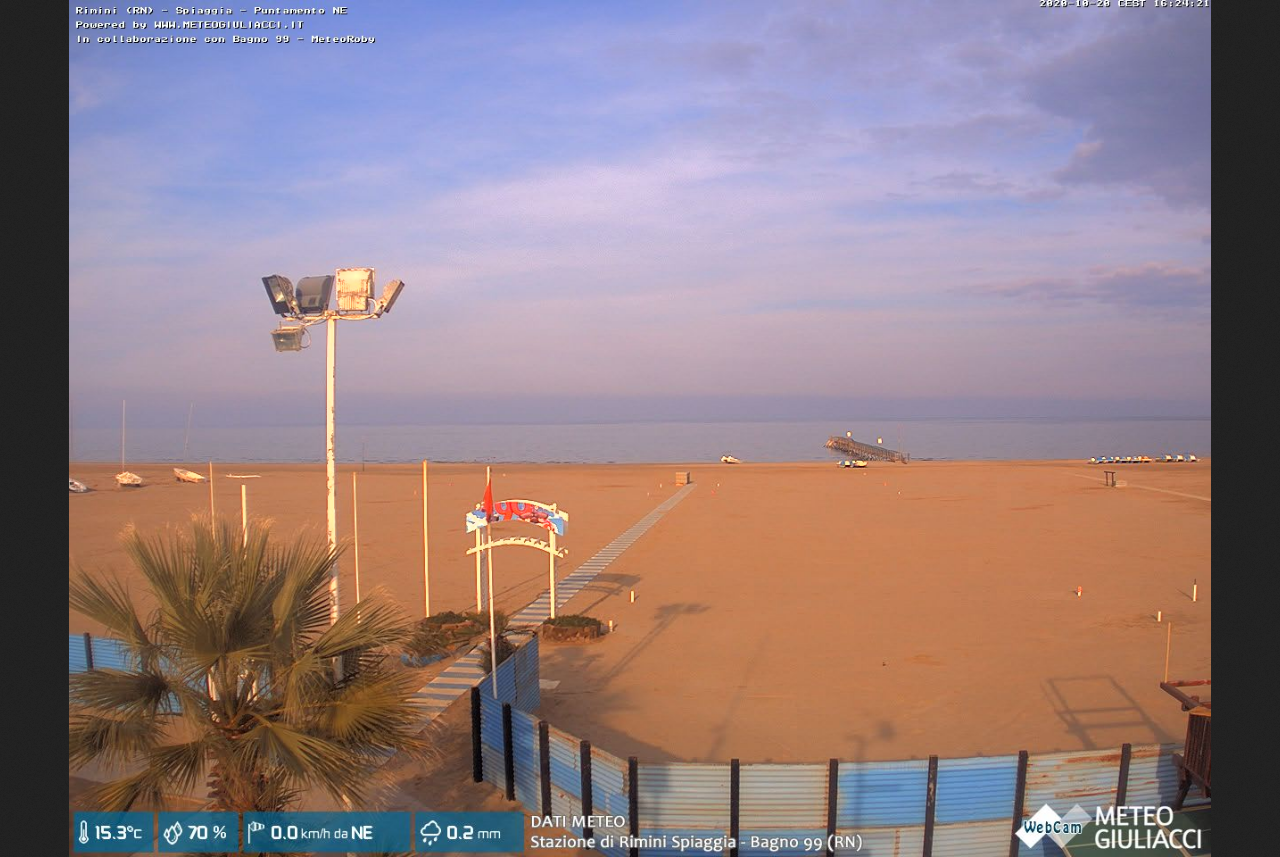no: (482, 476, 495, 519)
